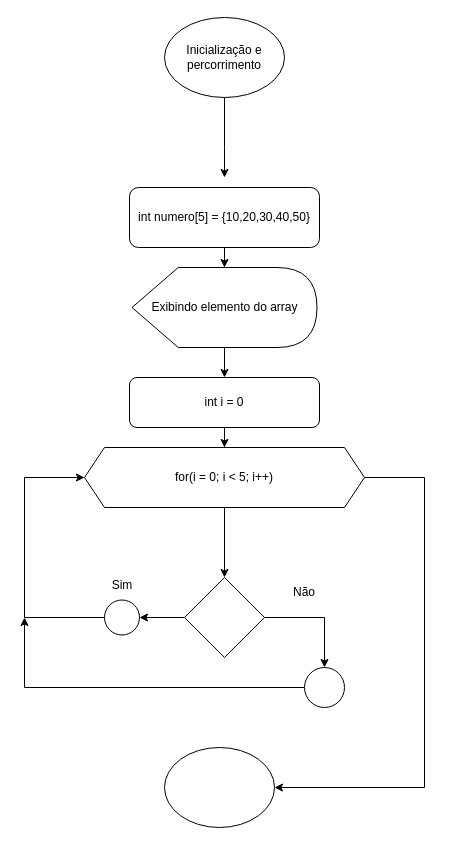
Image size: 450x845. Some labels were removed from this diagram. Here are the shapes that lost their labels. From the top down, the centre of each, then its label:
(x=224, y=617): i < 5
(x=219, y=787): Fim
